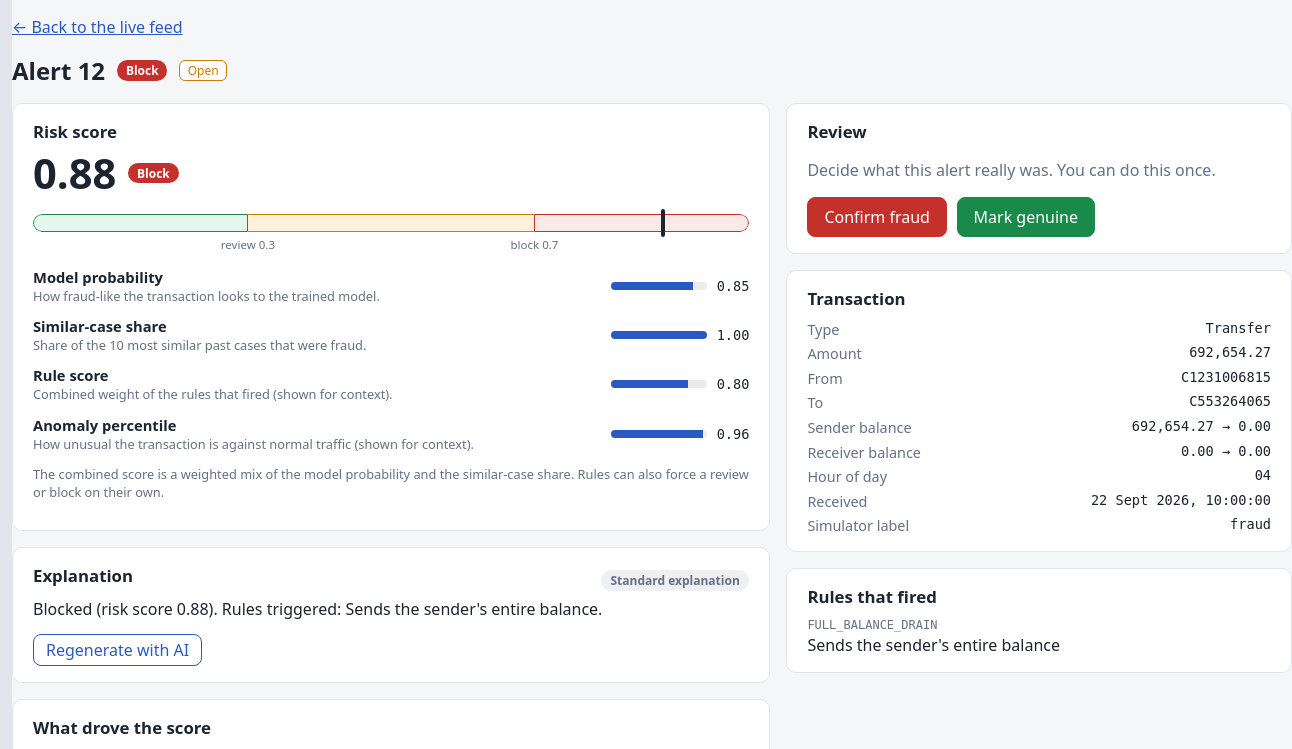
it: AlertPage › updates the explanation badge after regenerating
Expected: the text with test id "explanation-source" reads "Standard explanation", [610,572,740,589]
Click the button "Regenerate with AI".
click(118, 650)  # box [33,634,202,666]
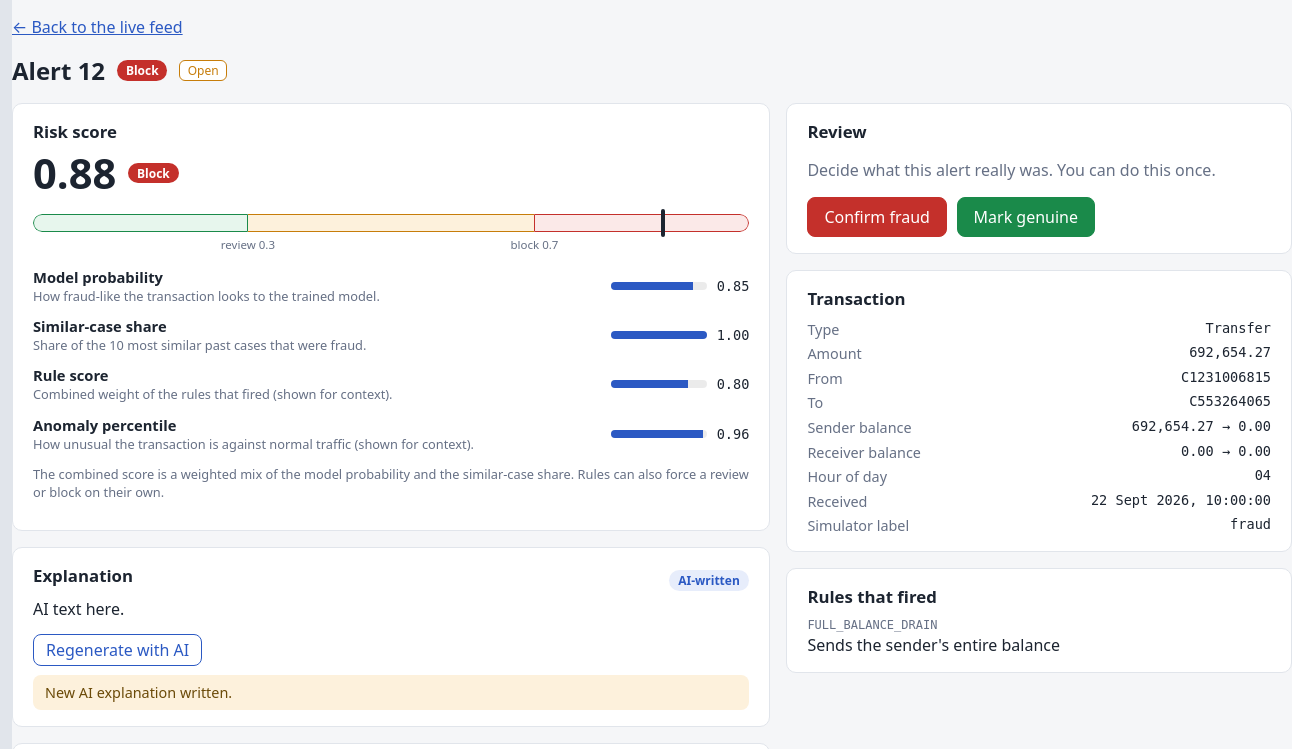
Result: the text "AI text here." is shown at [33,598,124,620]
Result: the text with test id "explanation-source" reads "AI-written" at [678,572,740,589]
